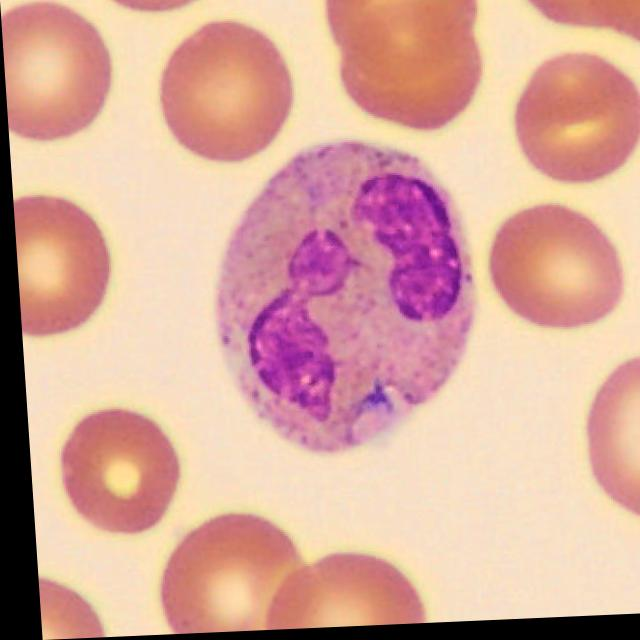Neutrofilo segmentado: (208, 147, 465, 458)
